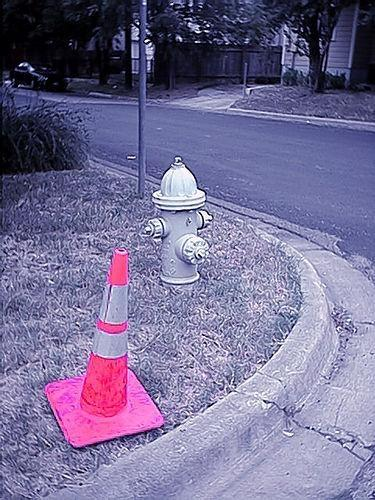car: (8, 60, 69, 92)
